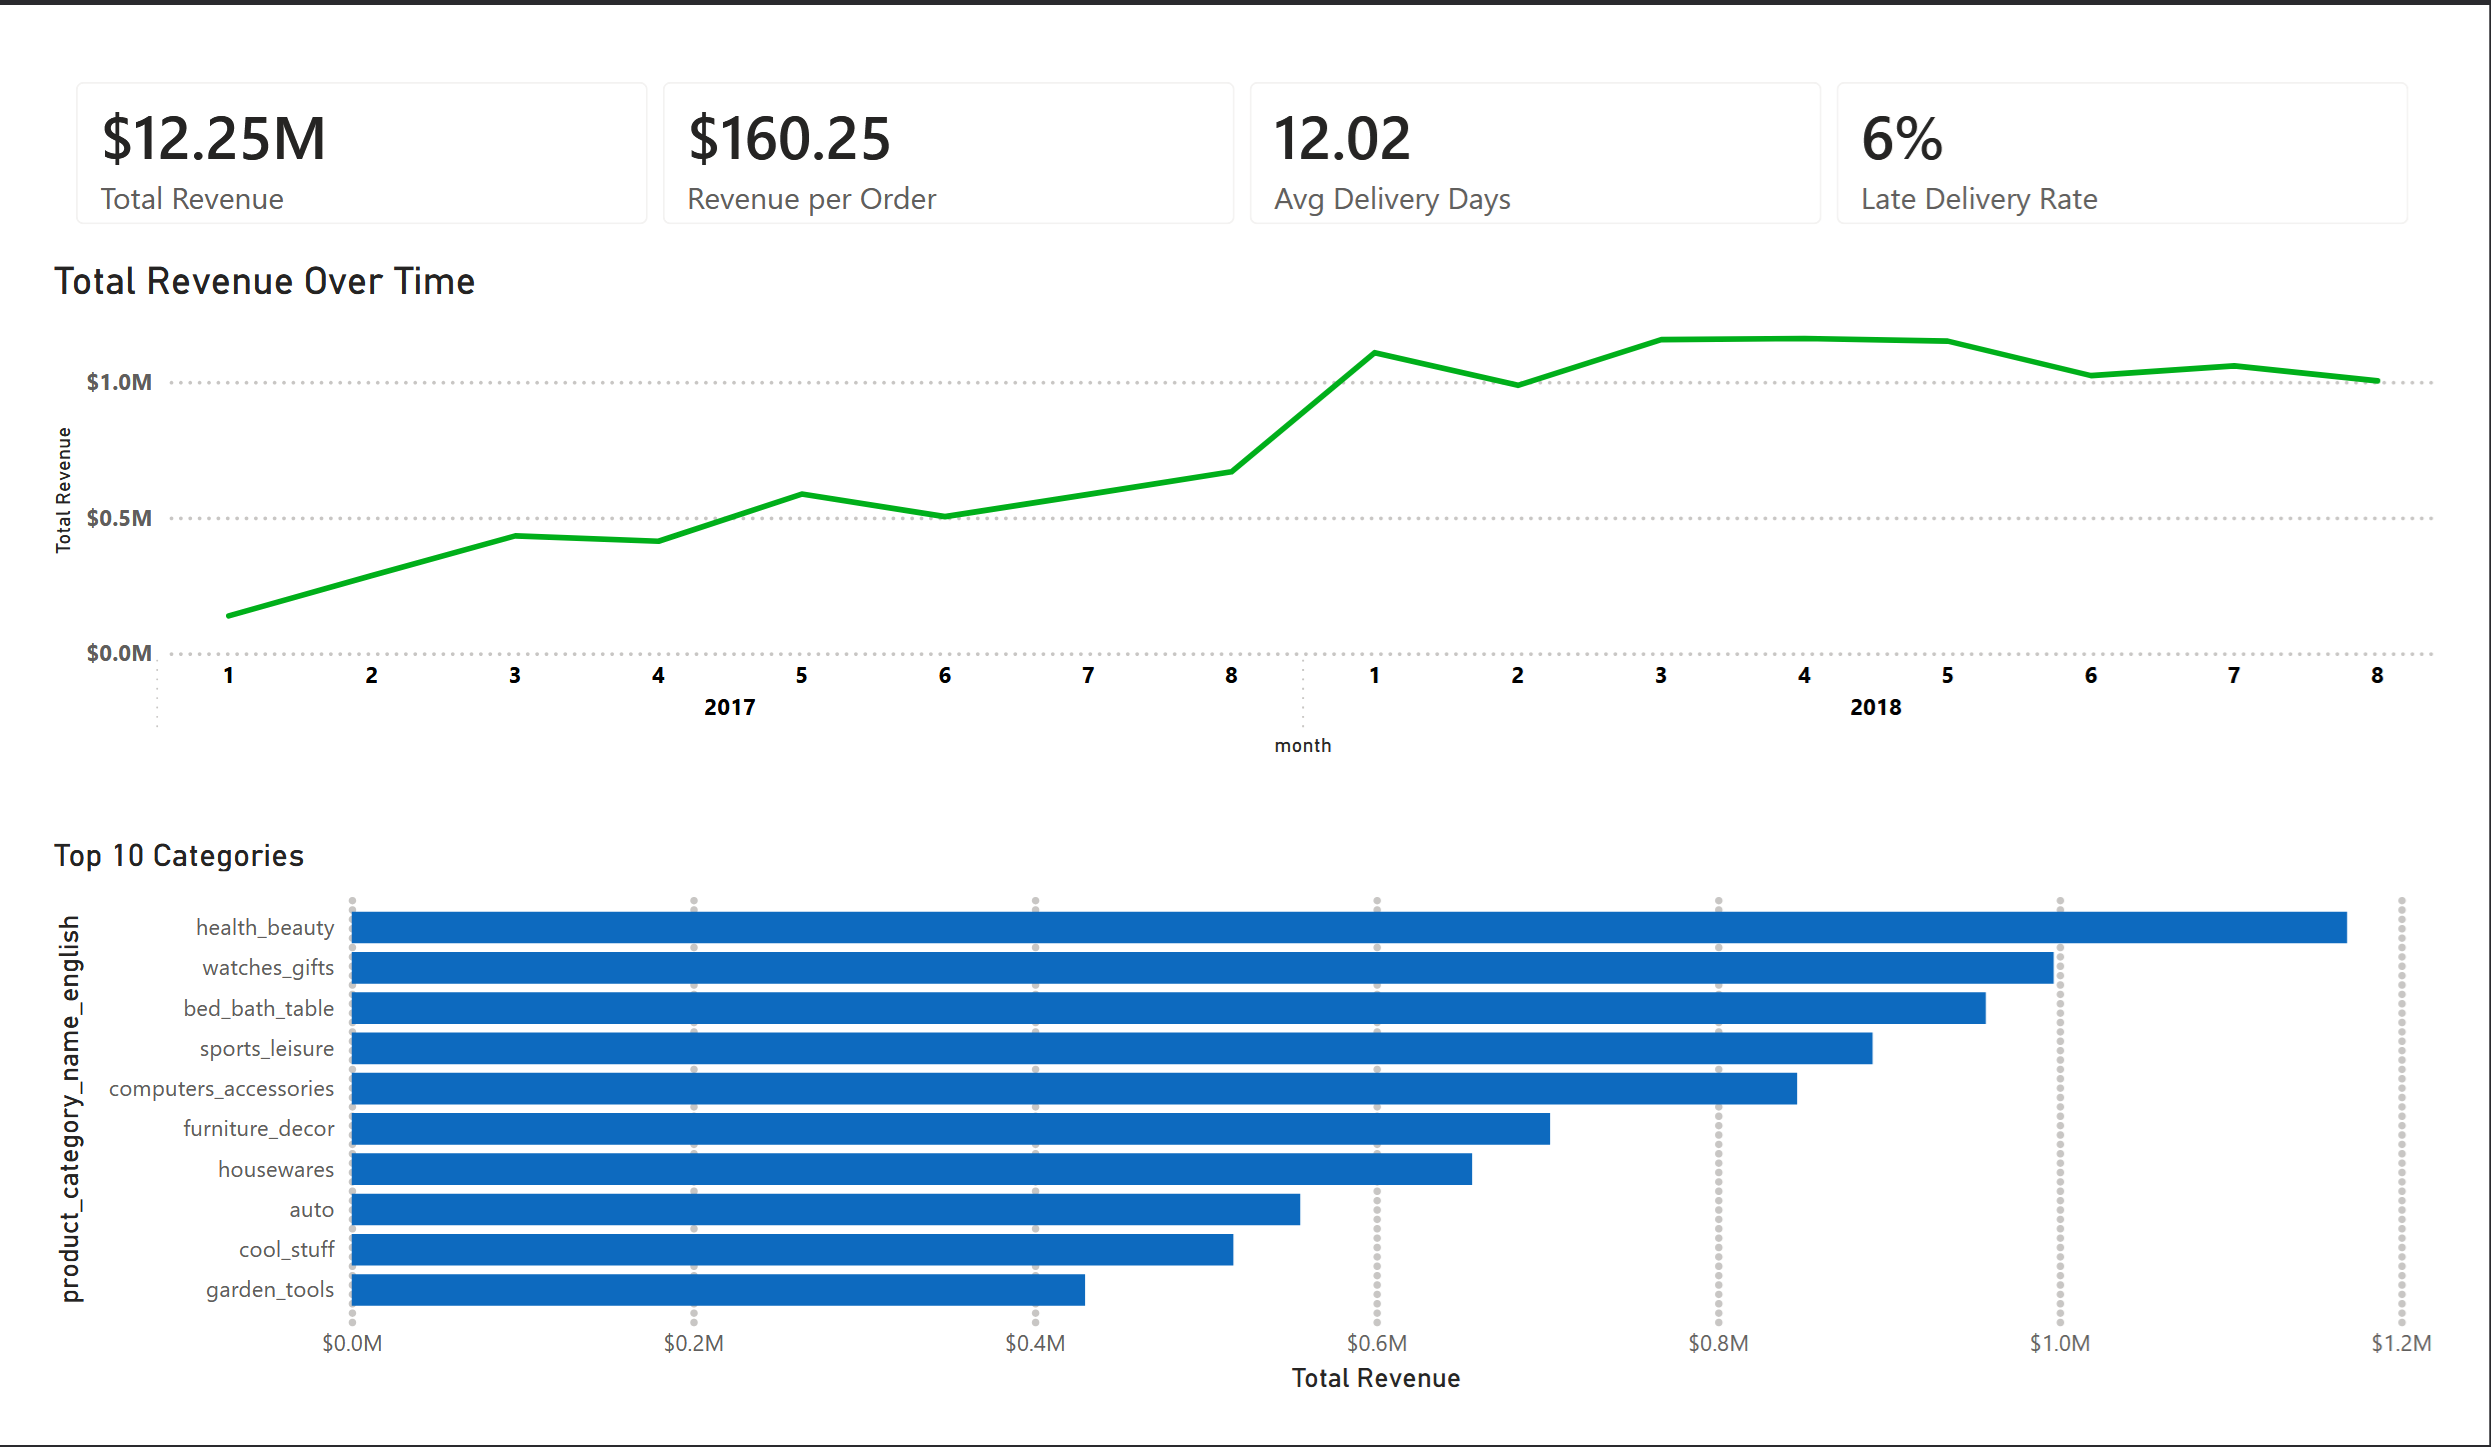

The dashboard page shown, as its layout file describes it:
{"tool":"powerbi","page":{"name":"Page 1","canvas":[1280,720],"ordinal":0},"visuals":[{"type":"cardVisual","fields":{"Data":["order_fact.Total Revenue","order_fact.Revenue per Order","order_fact.Avg Delivery Days","order_fact.Late Delivery Rate"]},"box":[0,0,1280.7,110.1],"z":0},{"type":"lineChart","title":"Total Revenue Over Time","fields":{"Category":["date_dim.year","date_dim.month"],"Y":["order_fact.Total Revenue","select"]},"box":[0,111.1,1280,271.1],"z":1000},{"type":"clusteredBarChart","title":"Top 10 Categories","fields":{"Category":["product_dim.product_category_name_english"],"Y":["order_fact.Total Revenue"]},"box":[0,418.8,1279.2,302.1],"z":2000}]}

Visuals, with their boxes on the page's 1280x720 design canvas (x1, y1, x2, y2). These are canvas units, not pixel positions in the 2491x1447 screenshot, which may show the page scaled, cropped or inside an application window:
cardVisual - order_fact.Total Revenue x order_fact.Revenue per Order: crop(0, 0, 1281, 110)
"Total Revenue Over Time" lineChart: crop(0, 111, 1280, 382)
"Top 10 Categories" clusteredBarChart: crop(0, 419, 1279, 721)
